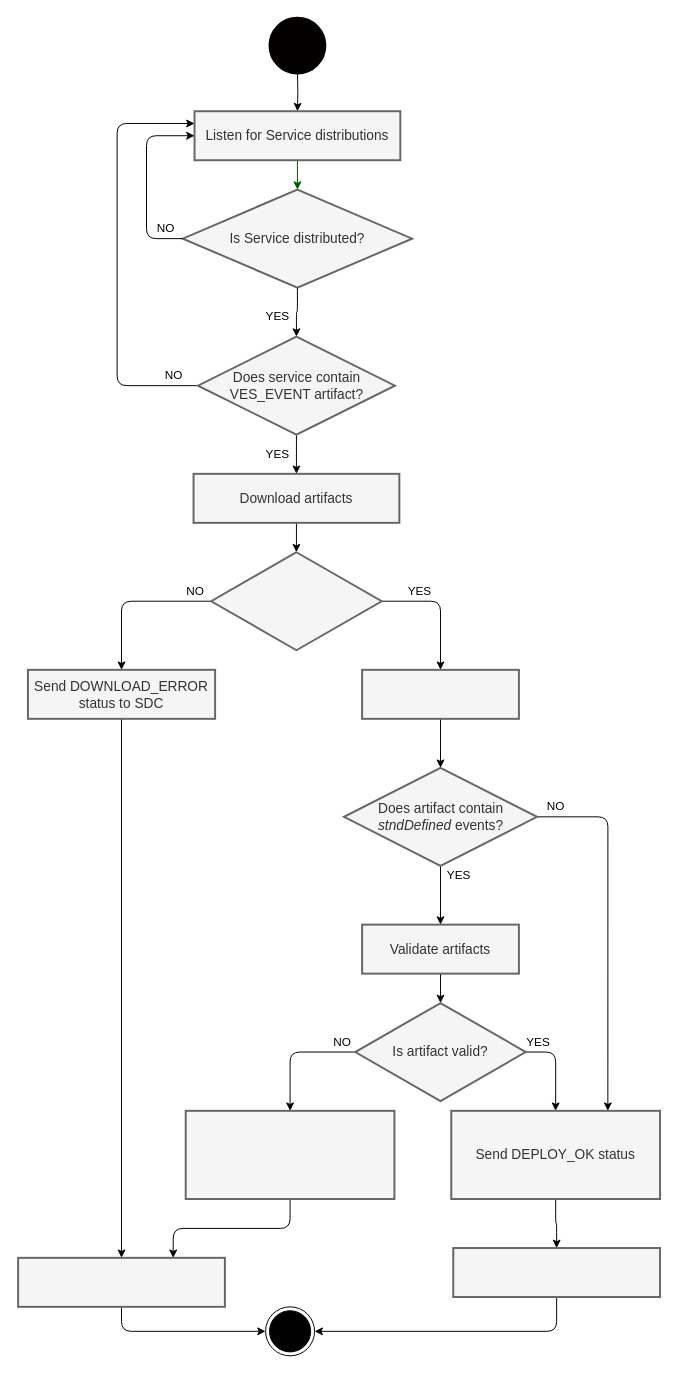
Some shapes in this 677 by 1373 pixel diagram are drawn without their labels. Each missing label, with the box of its shape:
Is artifact correctly downloaded?: (210, 551, 382, 651)
Send COMPONENT_DONE_ERROR status: (17, 1256, 225, 1307)
Send COMPONENT_DONE_OK status: (452, 1247, 661, 1298)
Send DEPLOY_ERROR status with error message containing missing schemaReferences: (184, 1109, 395, 1200)
Send DOWNLOAD_OK status to SDC: (361, 668, 519, 719)
